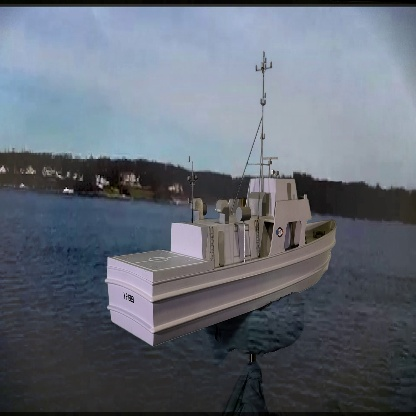YP689: (101, 46, 344, 349)
